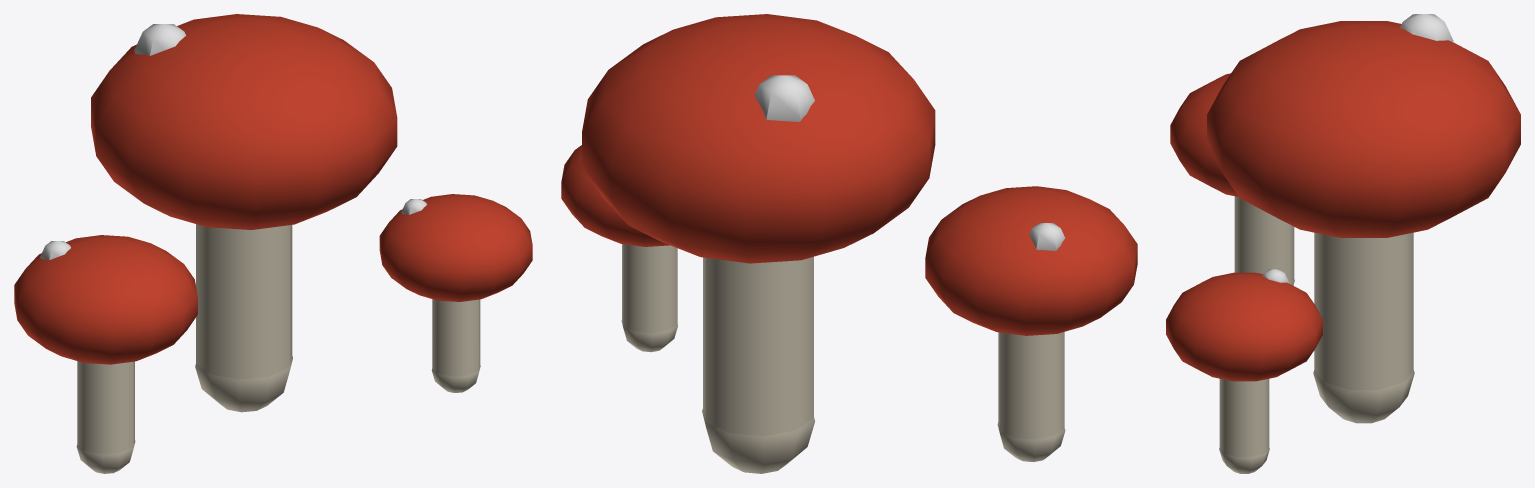
Rendered from mushroom.fbx.
3 renders of one model, left to right at view 1: azimuth 30°, elevation 25°; view 2: azimuth 150°, elevation 25°; view 3: azimuth 270°, elevation 25°, orthographic. The views are drawn at different scales.
Visible parts, largest first — view 1: mushroom; view 2: mushroom; view 3: mushroom.
Boxes of the visible parts, box(x1,y1,x2,y2) form: mushroom: box(14, 14, 532, 473); mushroom: box(561, 14, 1137, 473); mushroom: box(1166, 14, 1520, 473).
Bounding box in the file's own units: 0.569 × 0.421 × 0.3564.
